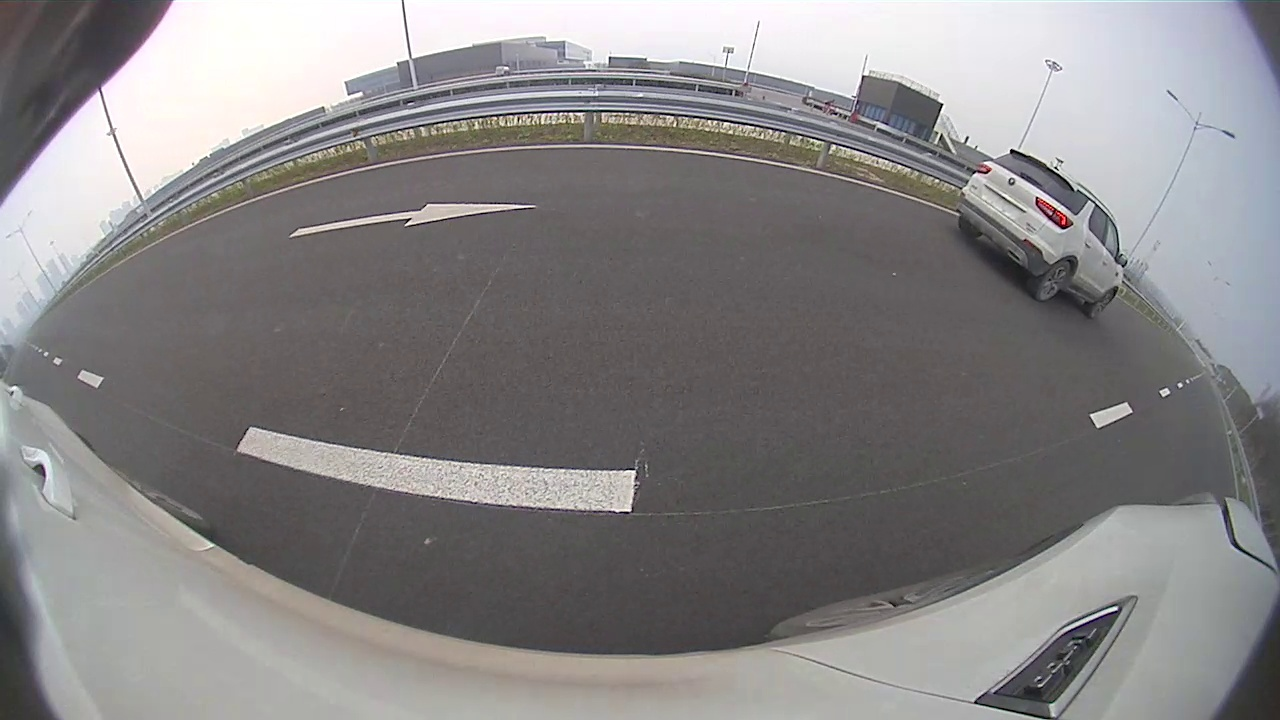car: (955, 149, 1127, 319)
rear: (1034, 258, 1074, 302)
